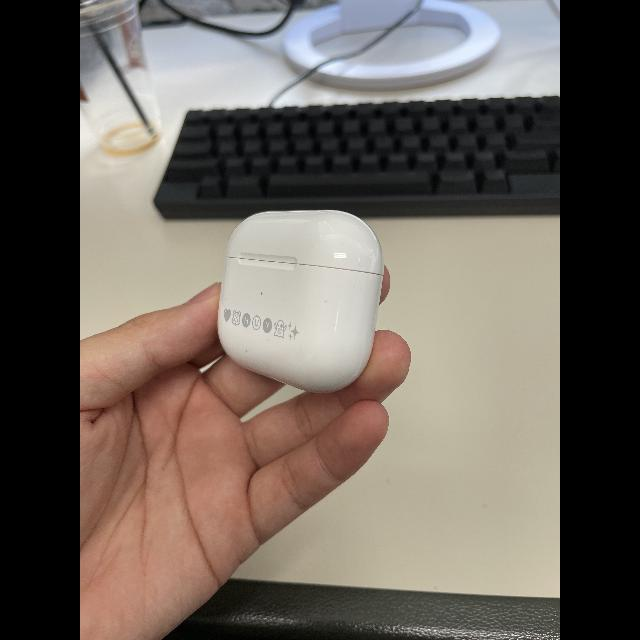airpod3: (216, 198, 380, 390)
